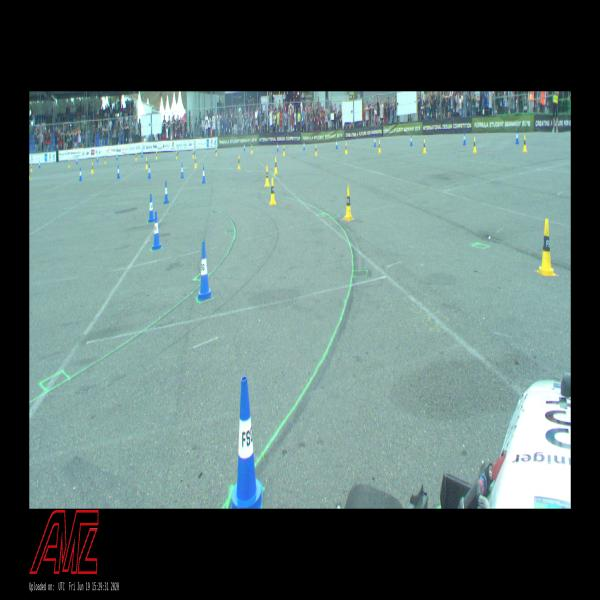blue_cone: (231, 377, 263, 507), (197, 241, 213, 301), (152, 211, 162, 249), (148, 194, 155, 222), (164, 182, 169, 204), (202, 166, 206, 183), (515, 130, 519, 144), (148, 164, 151, 179), (181, 163, 184, 177), (117, 165, 120, 178), (463, 132, 466, 145), (79, 168, 82, 180), (410, 134, 412, 146), (303, 141, 305, 151), (336, 139, 338, 149), (374, 136, 376, 146), (76, 156, 78, 164), (215, 144, 217, 152), (116, 153, 118, 160), (194, 147, 196, 154), (277, 143, 278, 151), (178, 147, 179, 154), (39, 161, 40, 167), (97, 156, 98, 162), (142, 151, 143, 157), (244, 144, 245, 150)
yellow_cone: (536, 219, 556, 276), (343, 185, 354, 220), (269, 178, 276, 205), (264, 166, 270, 186), (274, 157, 278, 174), (473, 137, 477, 153), (523, 135, 527, 151), (238, 154, 241, 169), (423, 139, 426, 153), (194, 156, 197, 169), (378, 140, 381, 153), (91, 163, 94, 174), (146, 157, 148, 169), (345, 142, 347, 154), (251, 144, 253, 154), (283, 146, 285, 156), (315, 145, 317, 155), (156, 152, 158, 159), (69, 160, 70, 168), (105, 156, 106, 164), (176, 151, 177, 159), (193, 150, 194, 158), (31, 164, 32, 171), (136, 153, 137, 160), (216, 148, 217, 155)
